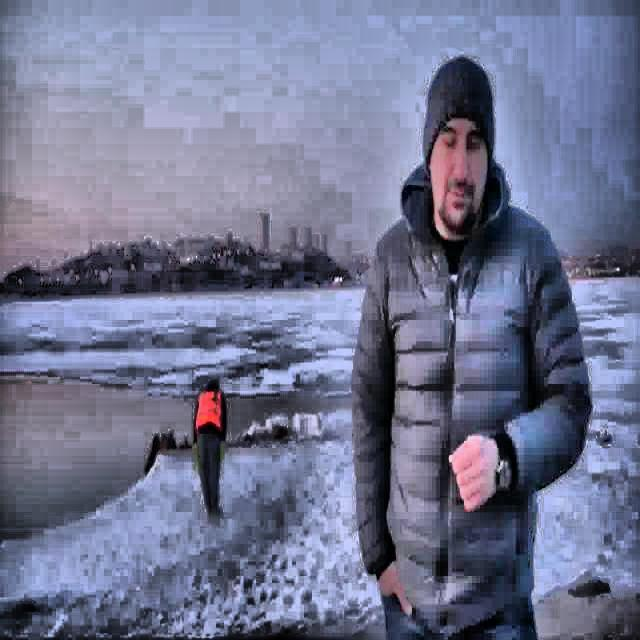safety_jacket: (194, 384, 222, 438)
